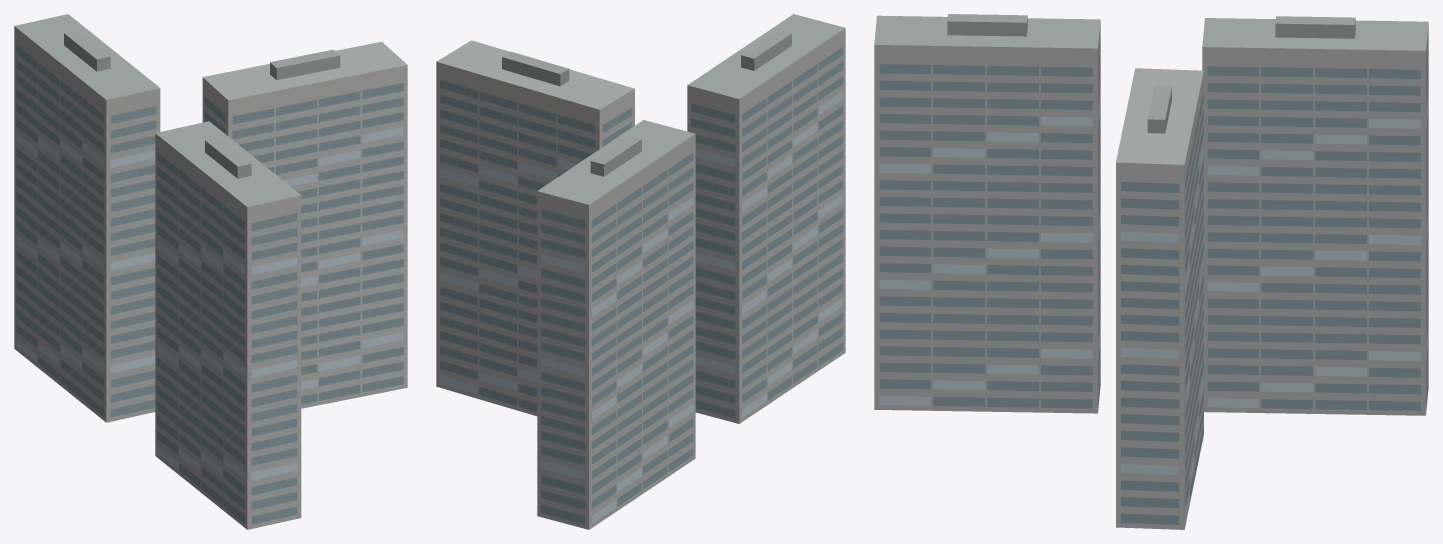
The model's file is apt-a14320001.glb.
3 views of the same model, side by side, from view 1: azimuth 30°, elevation 25°; view 2: azimuth 150°, elevation 25°; view 3: azimuth 270°, elevation 25° (orthographic). The views are drawn at different scales.
Parts seen in each view (by area): view 1: apt-a14320001; view 2: apt-a14320001; view 3: apt-a14320001.
Boxes of the visible parts, x1=… form: apt-a14320001: x1=14, y1=14, x2=407, y2=529; apt-a14320001: x1=436, y1=14, x2=845, y2=529; apt-a14320001: x1=874, y1=14, x2=1428, y2=529.
Bounding box in the file's own units: 55.78 × 66 × 87.58.
